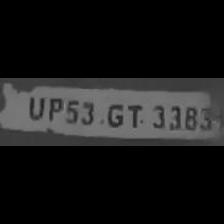3: (77, 98, 97, 126), (148, 100, 166, 130), (163, 101, 181, 128)
5: (61, 97, 80, 125)
8: (181, 103, 199, 131)
G: (101, 100, 126, 128)
P: (43, 94, 62, 124)
T: (125, 100, 144, 128)
U: (23, 93, 45, 121)
